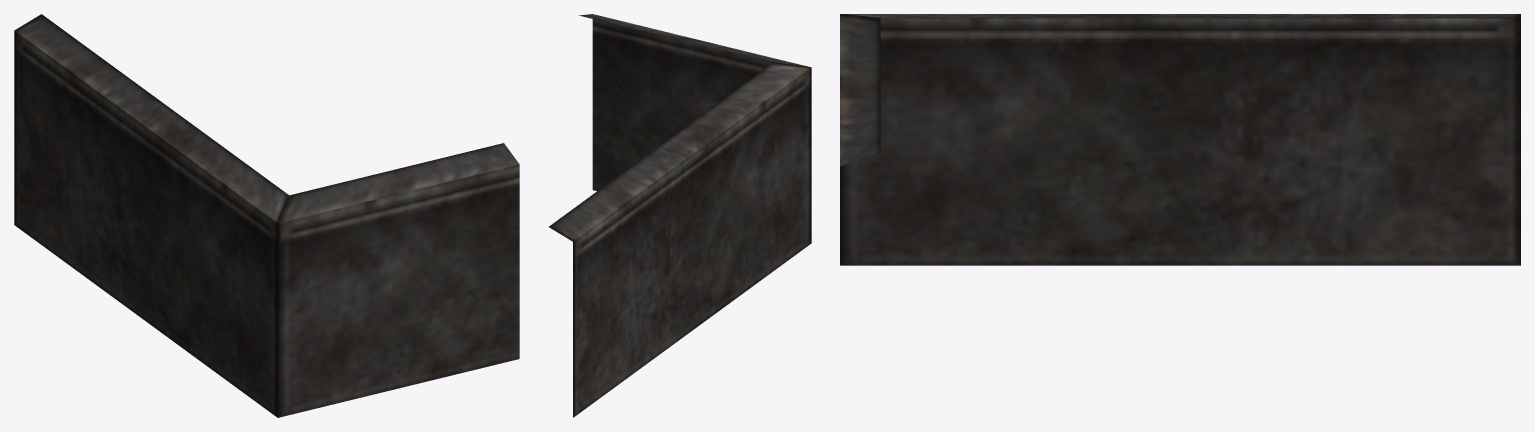
File: convex_skinny_foot_lab_2_6_special_left.dae
3 renders of one model, left to right at view 1: azimuth 30°, elevation 25°; view 2: azimuth 150°, elevation 25°; view 3: azimuth 270°, elevation 25°, orthographic. The views are drawn at different scales.
Parts seen in each view (by area): view 1: lab_convex_skinny; view 2: lab_convex_skinny; view 3: lab_convex_skinny.
Part boxes in pixels (bbox=[...]): lab_convex_skinny: bbox=[14, 14, 519, 417]; lab_convex_skinny: bbox=[549, 14, 811, 417]; lab_convex_skinny: bbox=[840, 14, 1520, 265].
Size of the model in its own units: 0.5635 by 0.4553 by 1.06.
